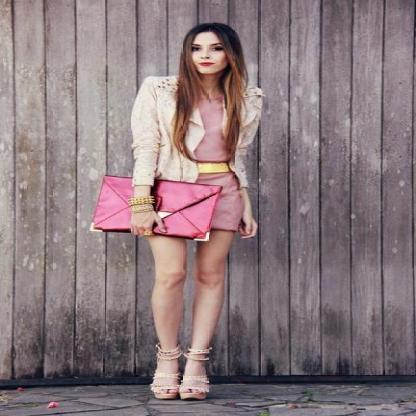bag: (90, 177, 218, 240)
dress: (181, 94, 250, 229)
shoe: (150, 360, 208, 398)
